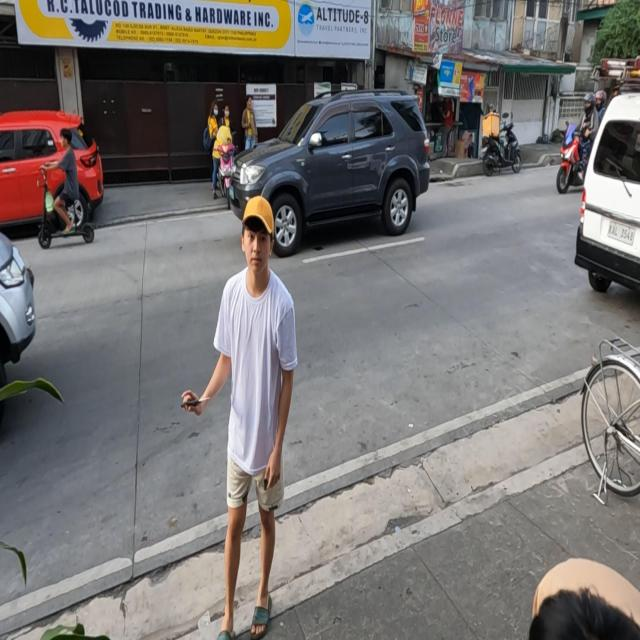scissor: (180, 397, 212, 411)
